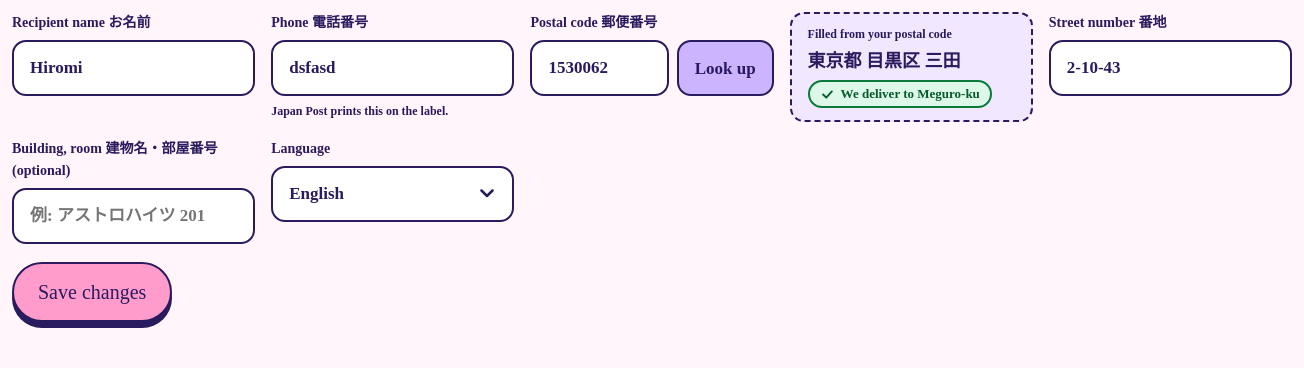
it: ProfileForm phone and postal code › won't save a number saved before this check, and says why
The width and height of the screenshot is (1304, 368).
Click the button "Save changes". click: (92, 292)
box: [12, 262, 172, 322]
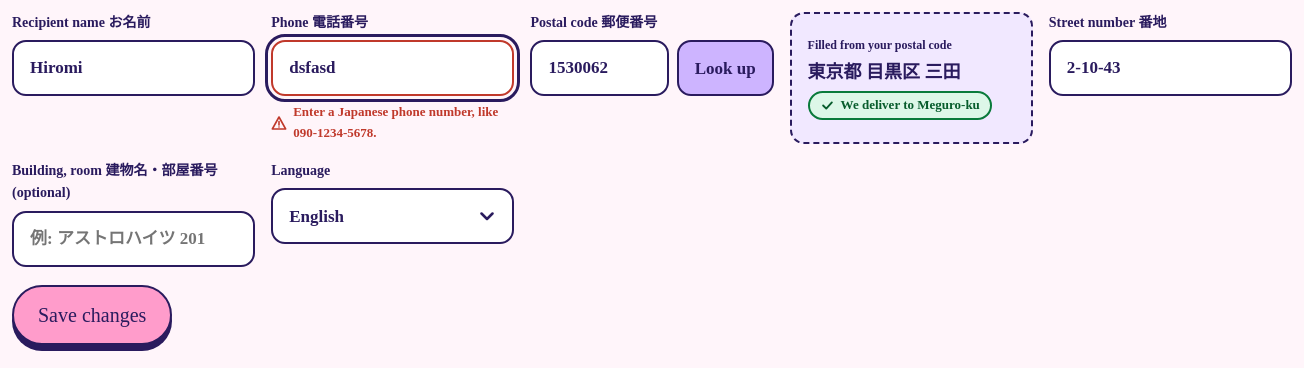
Expected: the text "Enter a Japanese phone number, like 090-1234-5678." is shown, [271, 102, 514, 144]
